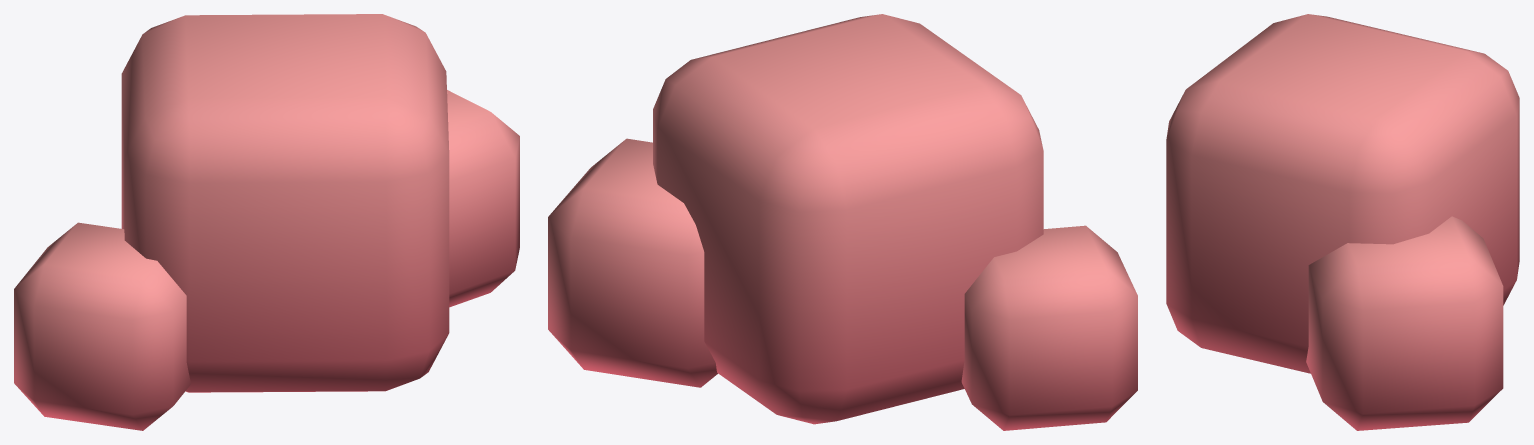
The model's file is Bush_2_D_Color8.fbx.
3 views of the same model, side by side, from view 1: azimuth 30°, elevation 25°; view 2: azimuth 150°, elevation 25°; view 3: azimuth 270°, elevation 25° (orthographic). The views are drawn at different scales.
Visible parts, largest first — view 1: Bush_2_D_Color8; view 2: Bush_2_D_Color8; view 3: Bush_2_D_Color8.
Boxes of the visible parts, <box> form: Bush_2_D_Color8: <box>14,14,519,430</box>; Bush_2_D_Color8: <box>548,14,1137,430</box>; Bush_2_D_Color8: <box>1166,14,1519,430</box>.
Bounding box in the file's own units: 1.57 × 0.858 × 1.02.
